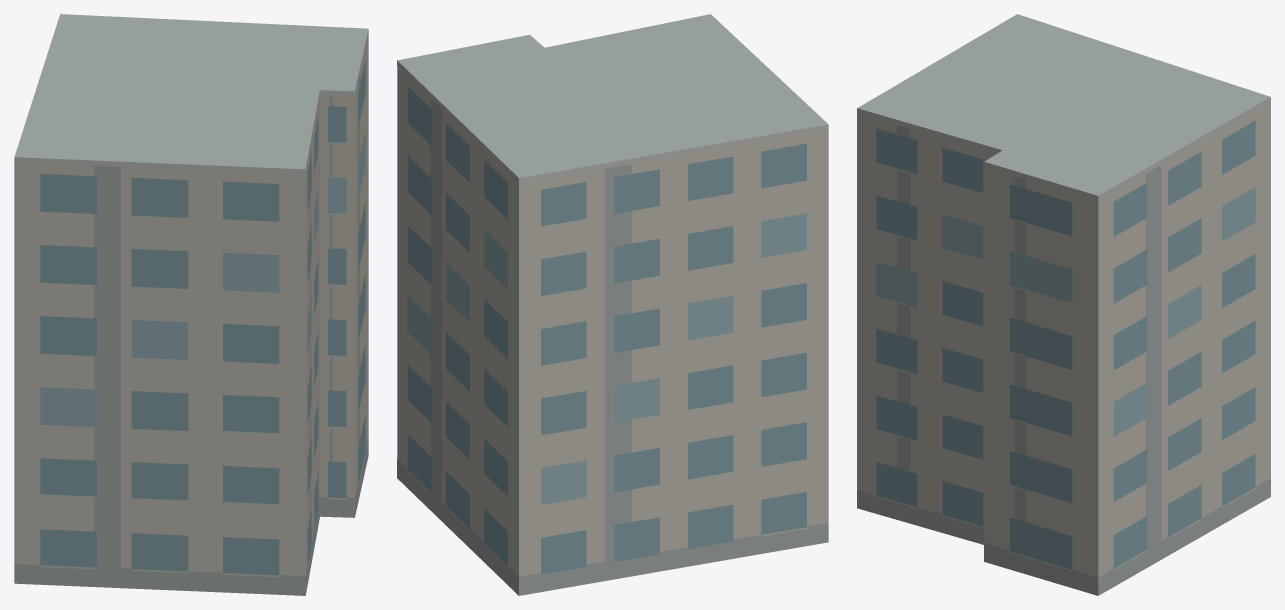
The model's file is survey-upis-32945649.glb.
3 views of the same model, side by side, from view 1: azimuth 30°, elevation 25°; view 2: azimuth 150°, elevation 25°; view 3: azimuth 270°, elevation 25° (orthographic). The views are drawn at different scales.
Parts seen in each view (by area): view 1: survey-upis-32945649.tmp; view 2: survey-upis-32945649.tmp; view 3: survey-upis-32945649.tmp.
Boxes of the visible parts, bbox=[...] form: survey-upis-32945649.tmp: bbox=[14, 14, 368, 595]; survey-upis-32945649.tmp: bbox=[397, 14, 828, 595]; survey-upis-32945649.tmp: bbox=[857, 14, 1270, 595].
Size of the model in its own units: 18.24 by 18.7 by 17.54.
